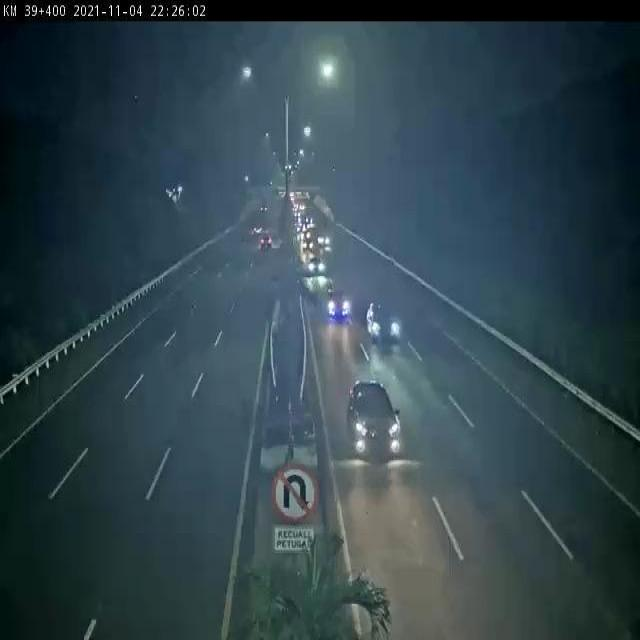car: (349, 375, 405, 465), (366, 297, 410, 348), (322, 296, 355, 327), (307, 269, 335, 299), (307, 256, 326, 272), (263, 232, 276, 252)
